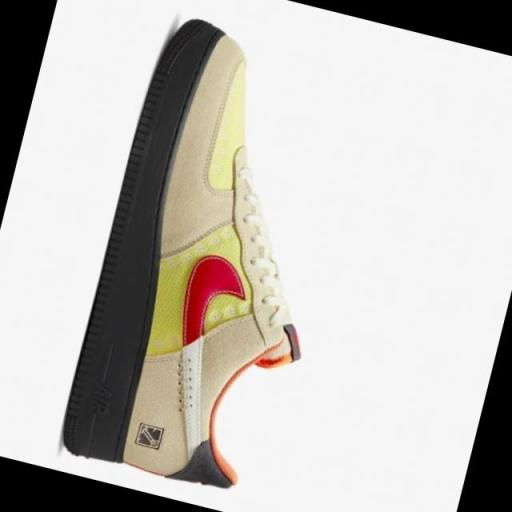Nike: (139, 246, 258, 472)
